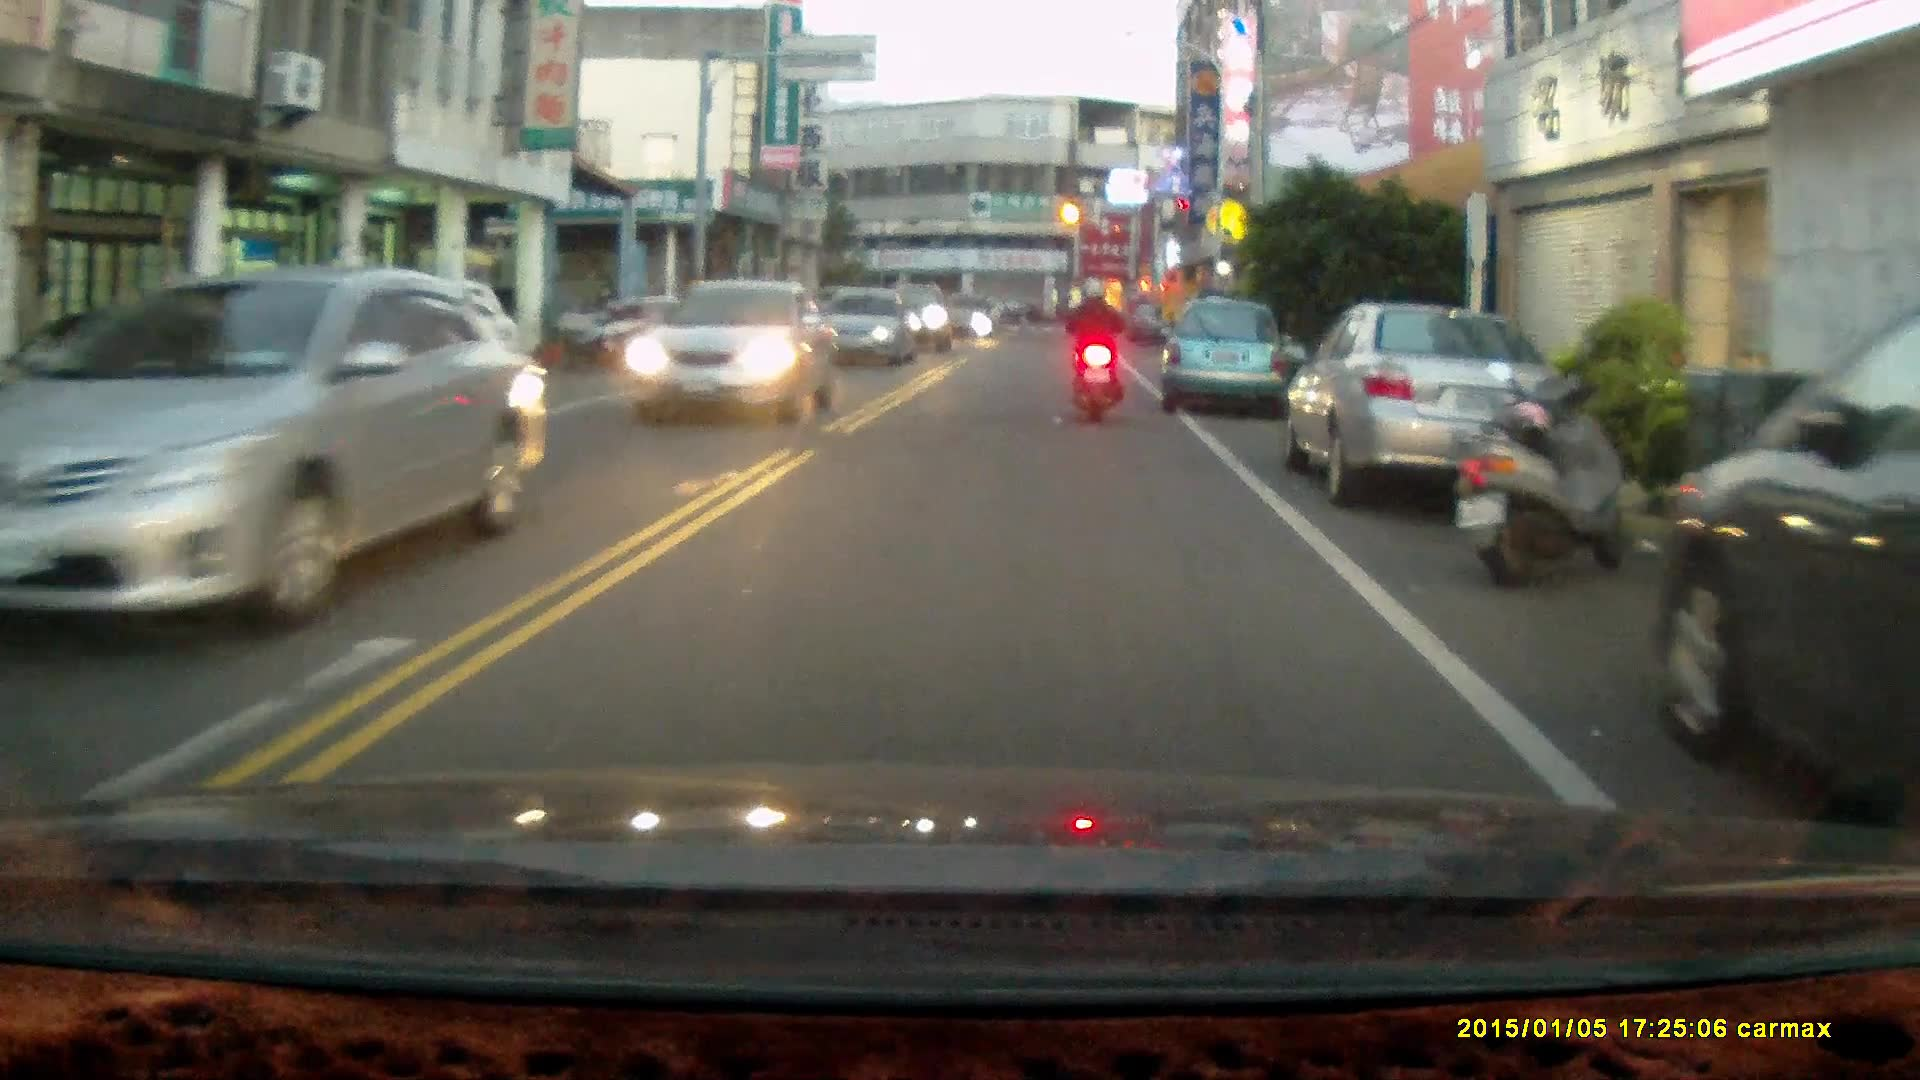rider: (1062, 273, 1122, 422)
vehicle: (1, 263, 553, 642), (1648, 310, 1920, 815), (1282, 299, 1564, 507), (624, 277, 838, 421), (1154, 297, 1291, 420), (810, 282, 921, 369)
